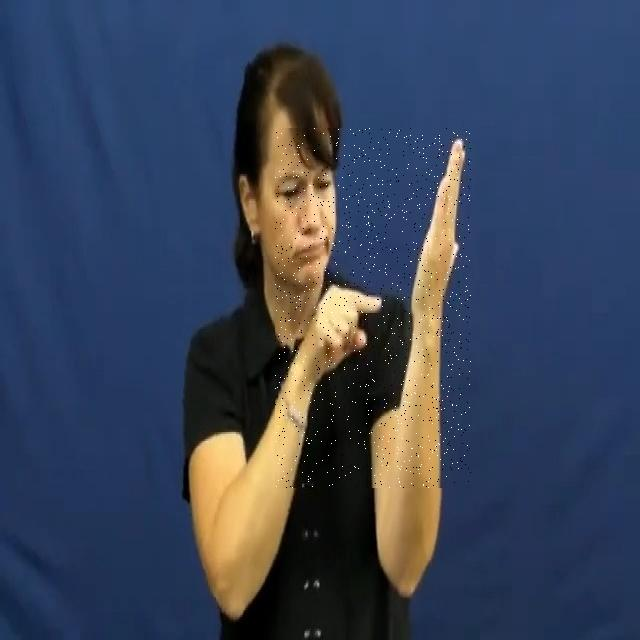menu: (276, 128, 472, 488)
